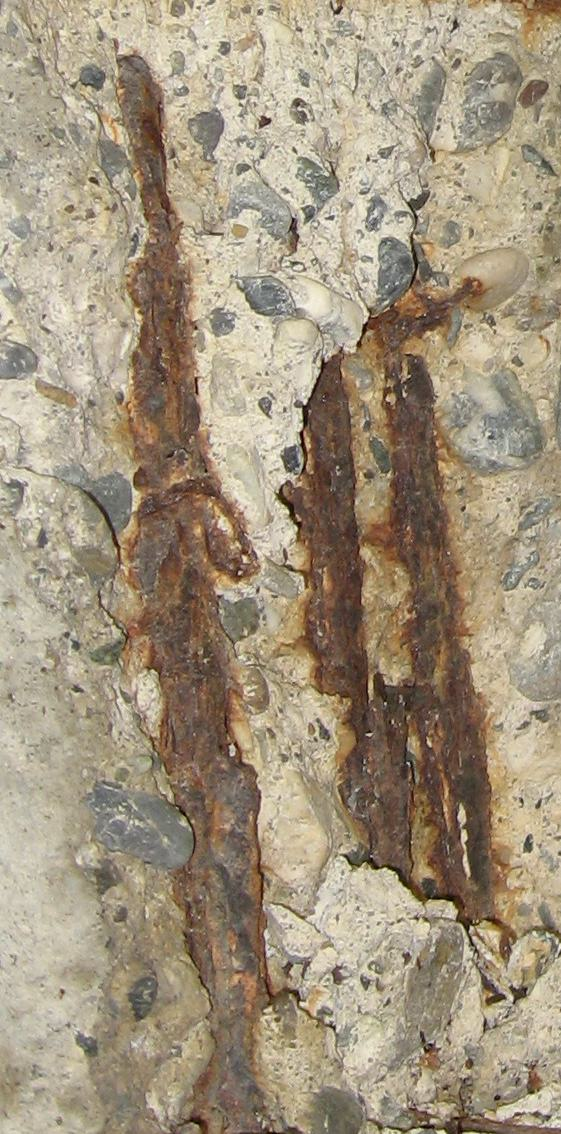Exposed reinforcement: (111, 54, 272, 1134), (382, 351, 500, 922), (300, 352, 366, 802), (366, 671, 416, 880), (366, 276, 484, 353)
